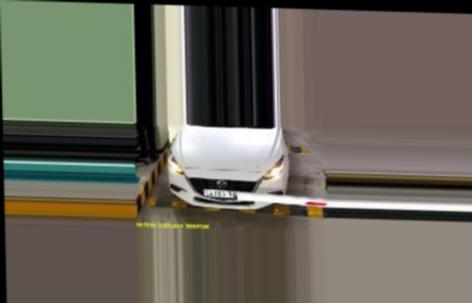License_Plate: (203, 187, 239, 200)
